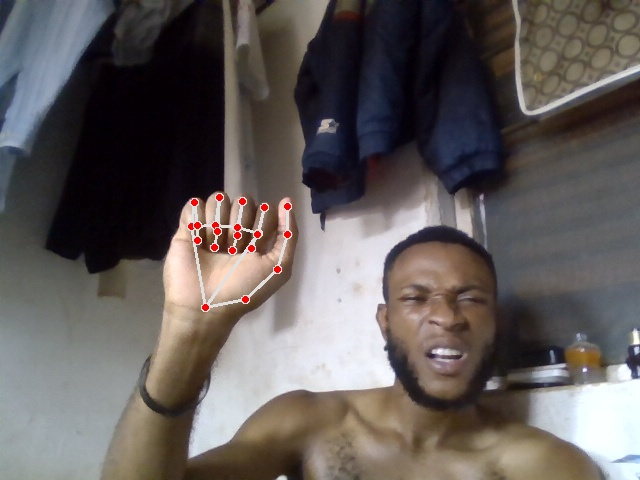number0: (162, 189, 299, 322)
